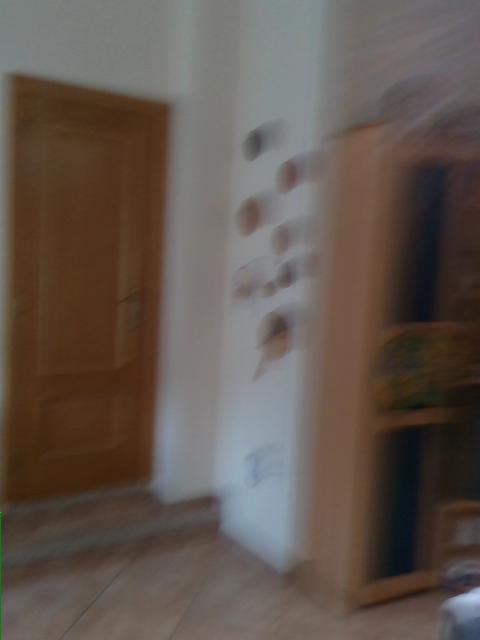door: (5, 74, 172, 502)
